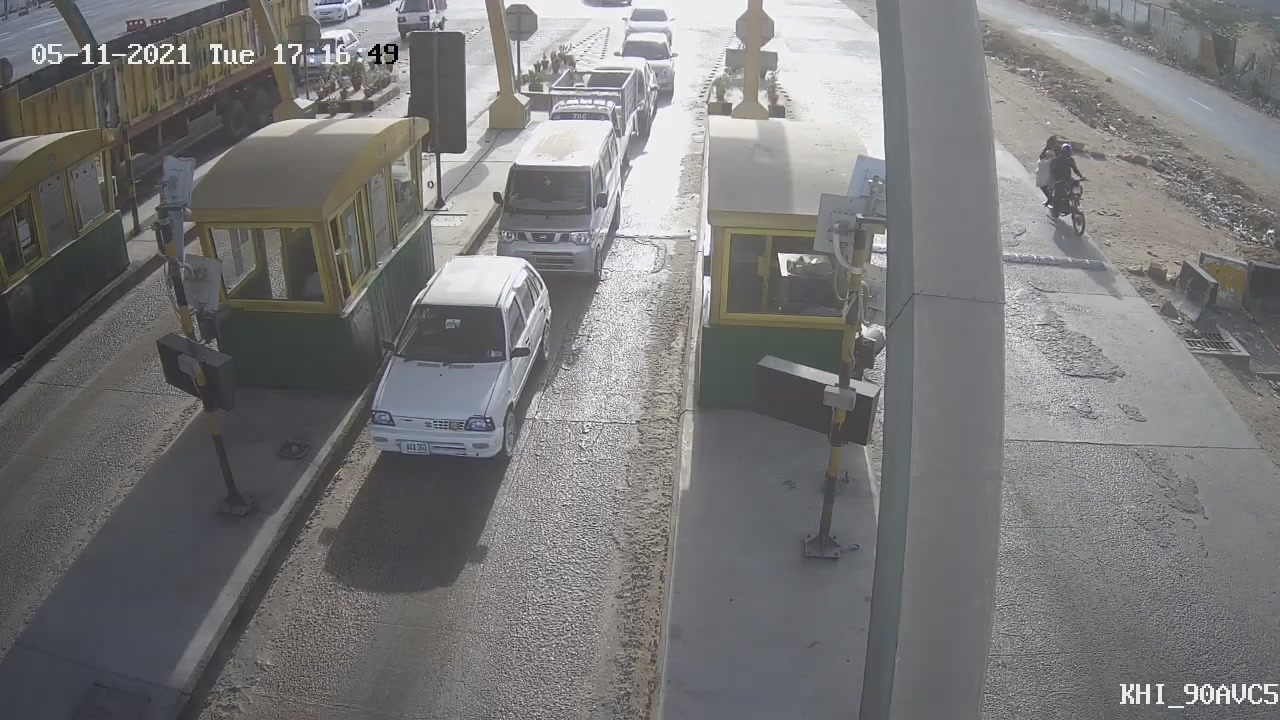F1: (344, 240, 566, 481), (476, 108, 640, 299)
